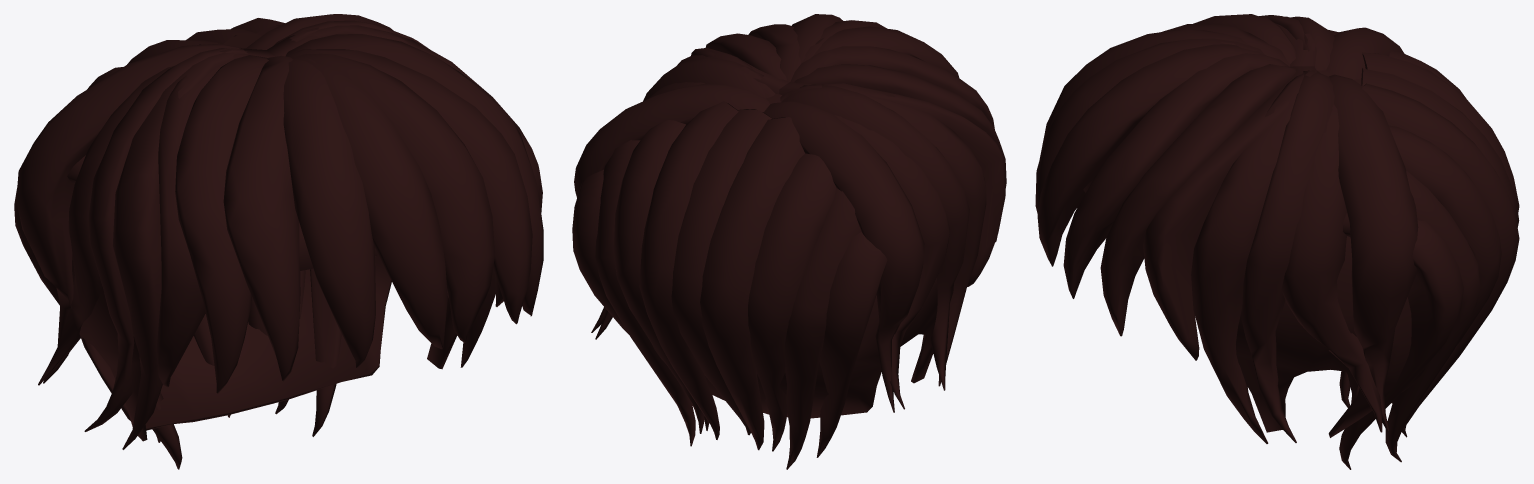
Rendered from hair-6-8e2c31c4.glb.
The picture shows the model from 3 angles, left to right: view 1: azimuth 30°, elevation 25°; view 2: azimuth 150°, elevation 25°; view 3: azimuth 270°, elevation 25°; orthographic projection. The views are drawn at different scales.
Parts seen in each view (by area): view 1: hair_6.001; view 2: hair_6.001; view 3: hair_6.001.
Part boxes in pixels (bbox=[...]): hair_6.001: bbox=[14, 14, 543, 469]; hair_6.001: bbox=[572, 14, 1006, 469]; hair_6.001: bbox=[1035, 14, 1519, 469].
Bounding box in the file's own units: 1.82 × 1.87 × 2.06.
